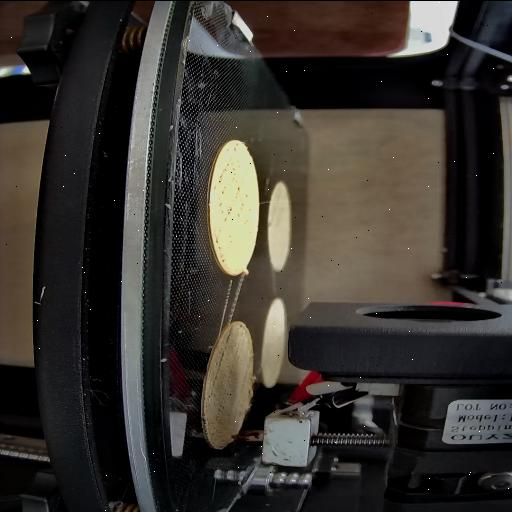under_extrusion: (200, 322, 232, 446), (213, 143, 250, 218), (211, 226, 233, 263)
